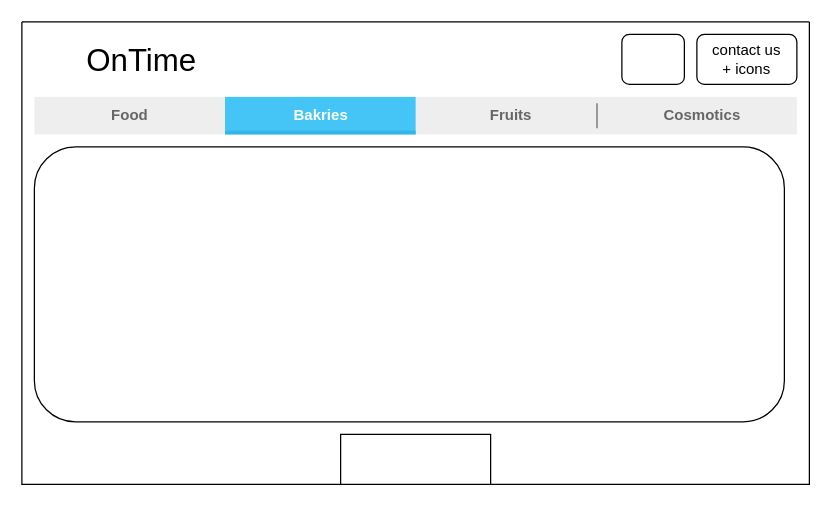
Image size: 831x506. Some labels were removed from this diagram. The box of each missing label's shape, as (x1, y1, x2, y2) in pixels:
login: (621, 33, 684, 84)
pages nums 1,2 3,4: (339, 433, 491, 484)
